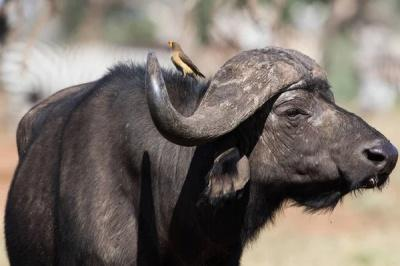buffalo: (5, 42, 396, 265)
